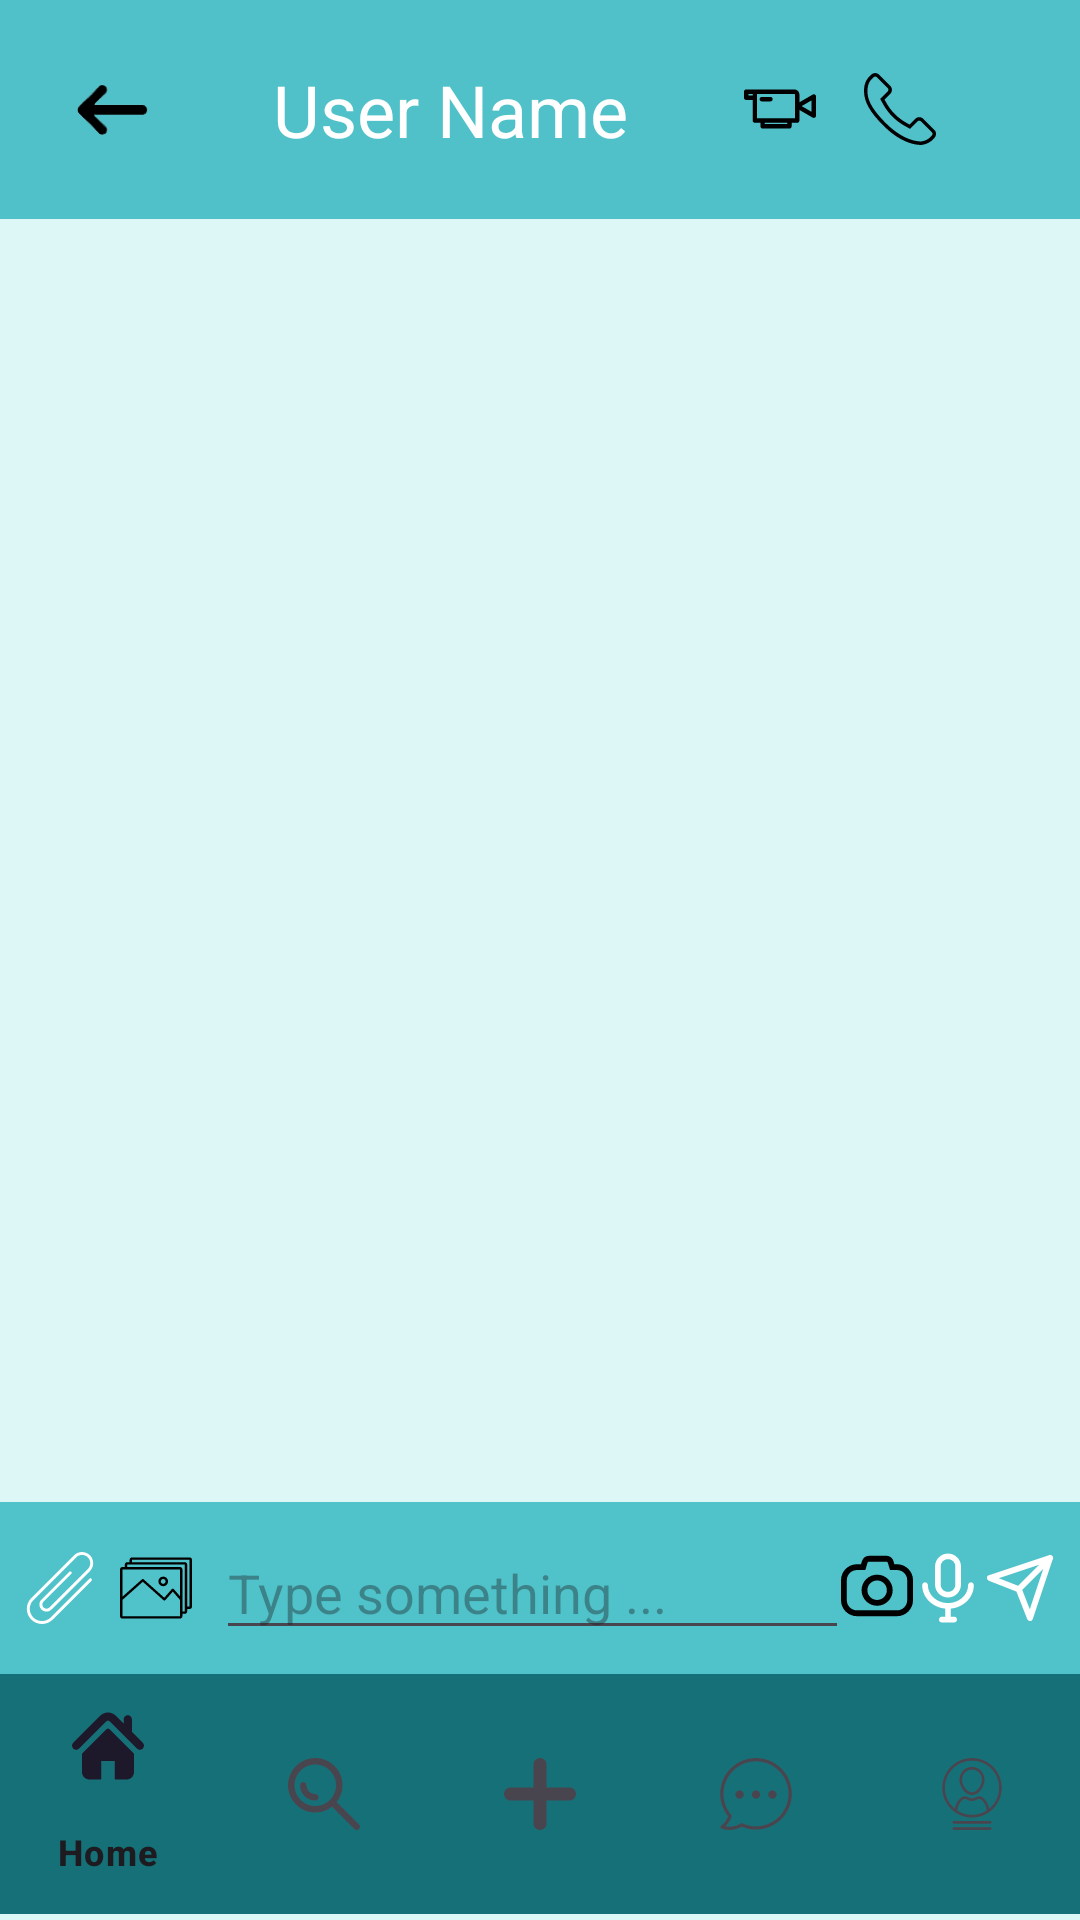

Icon bounding boxes for this 1080 x 1920 phone screenshot, format (x1, y1, x2, y2):
arrow: (77, 85, 147, 135)
attachment: (26, 1552, 94, 1624)
camera: (841, 1555, 913, 1617)
gallery: (120, 1557, 192, 1619)
microphone: (922, 1553, 974, 1623)
phone: (864, 73, 936, 145)
send: (987, 1555, 1053, 1621)
video: (744, 89, 816, 129)
